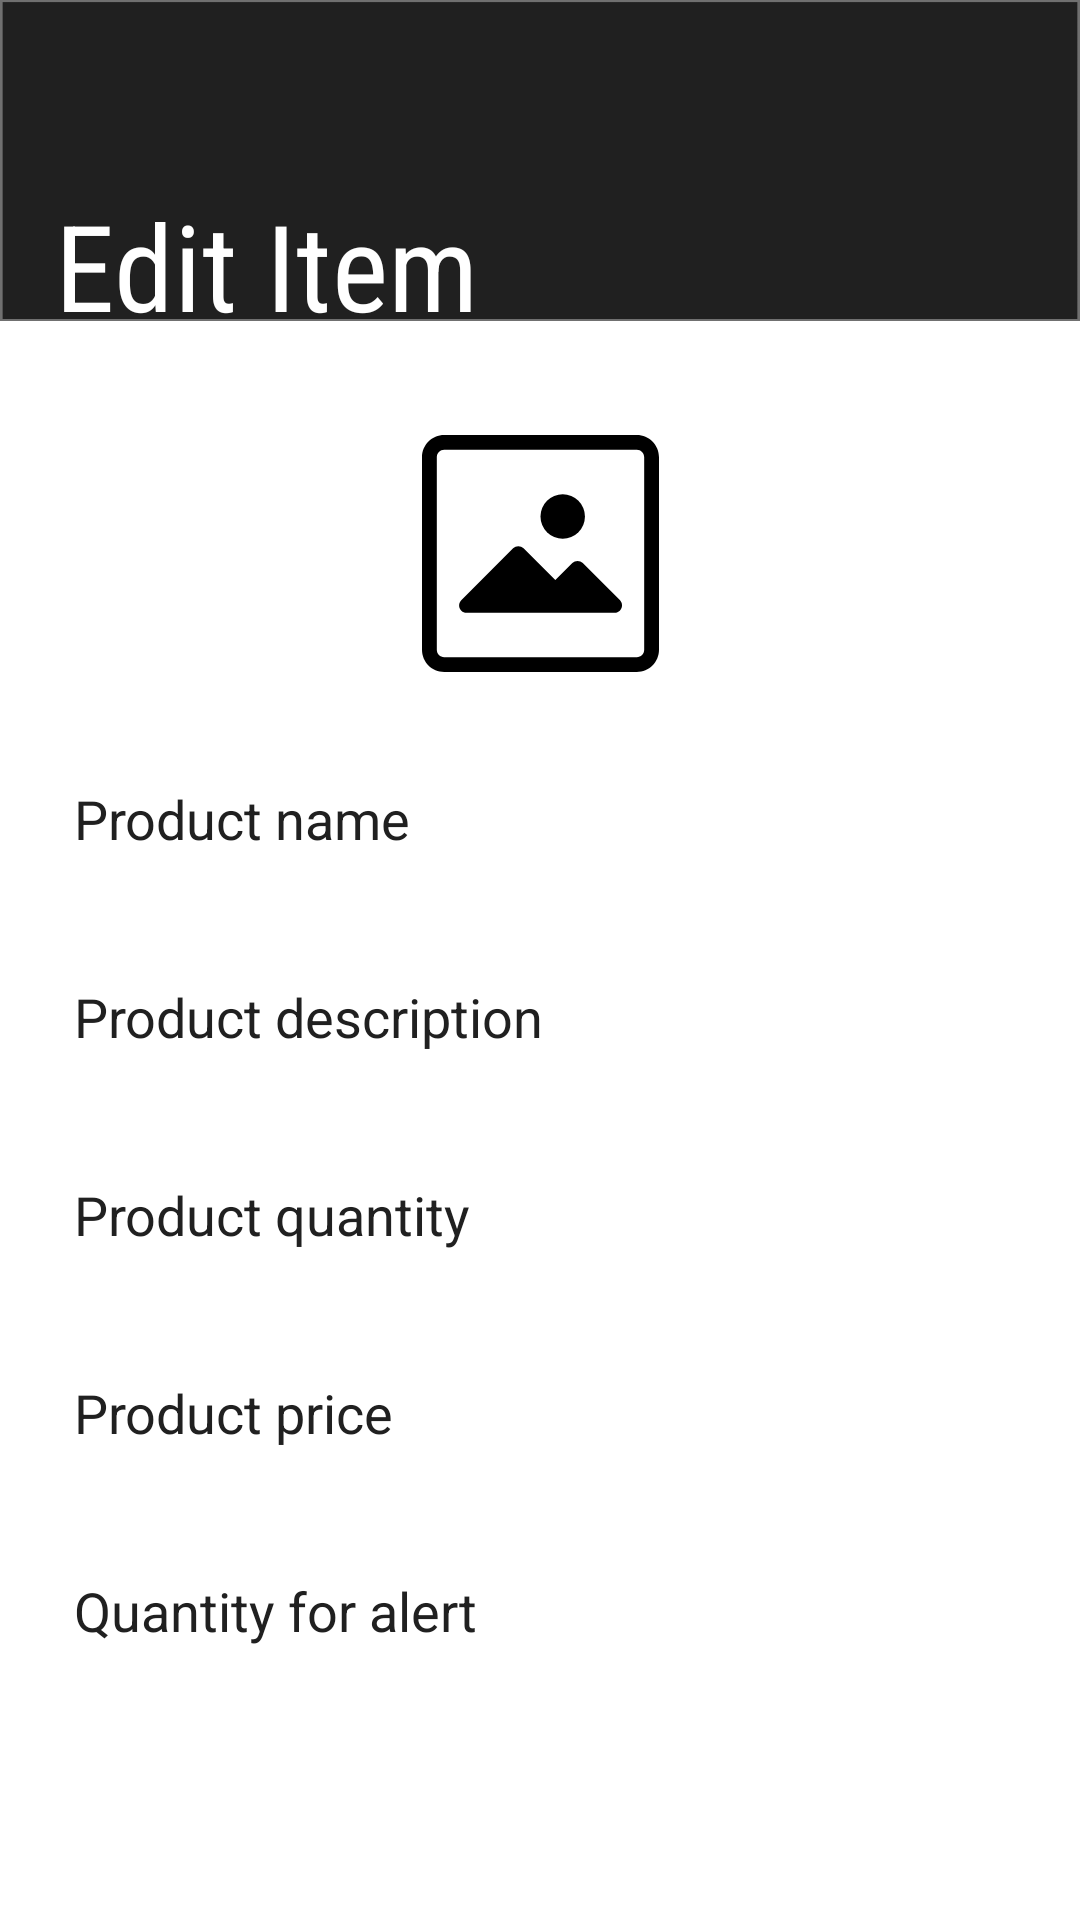

Where to tap for icons on this 1080px×1920px app screen, as point (x, y):
thumbnail: point (540, 553)
